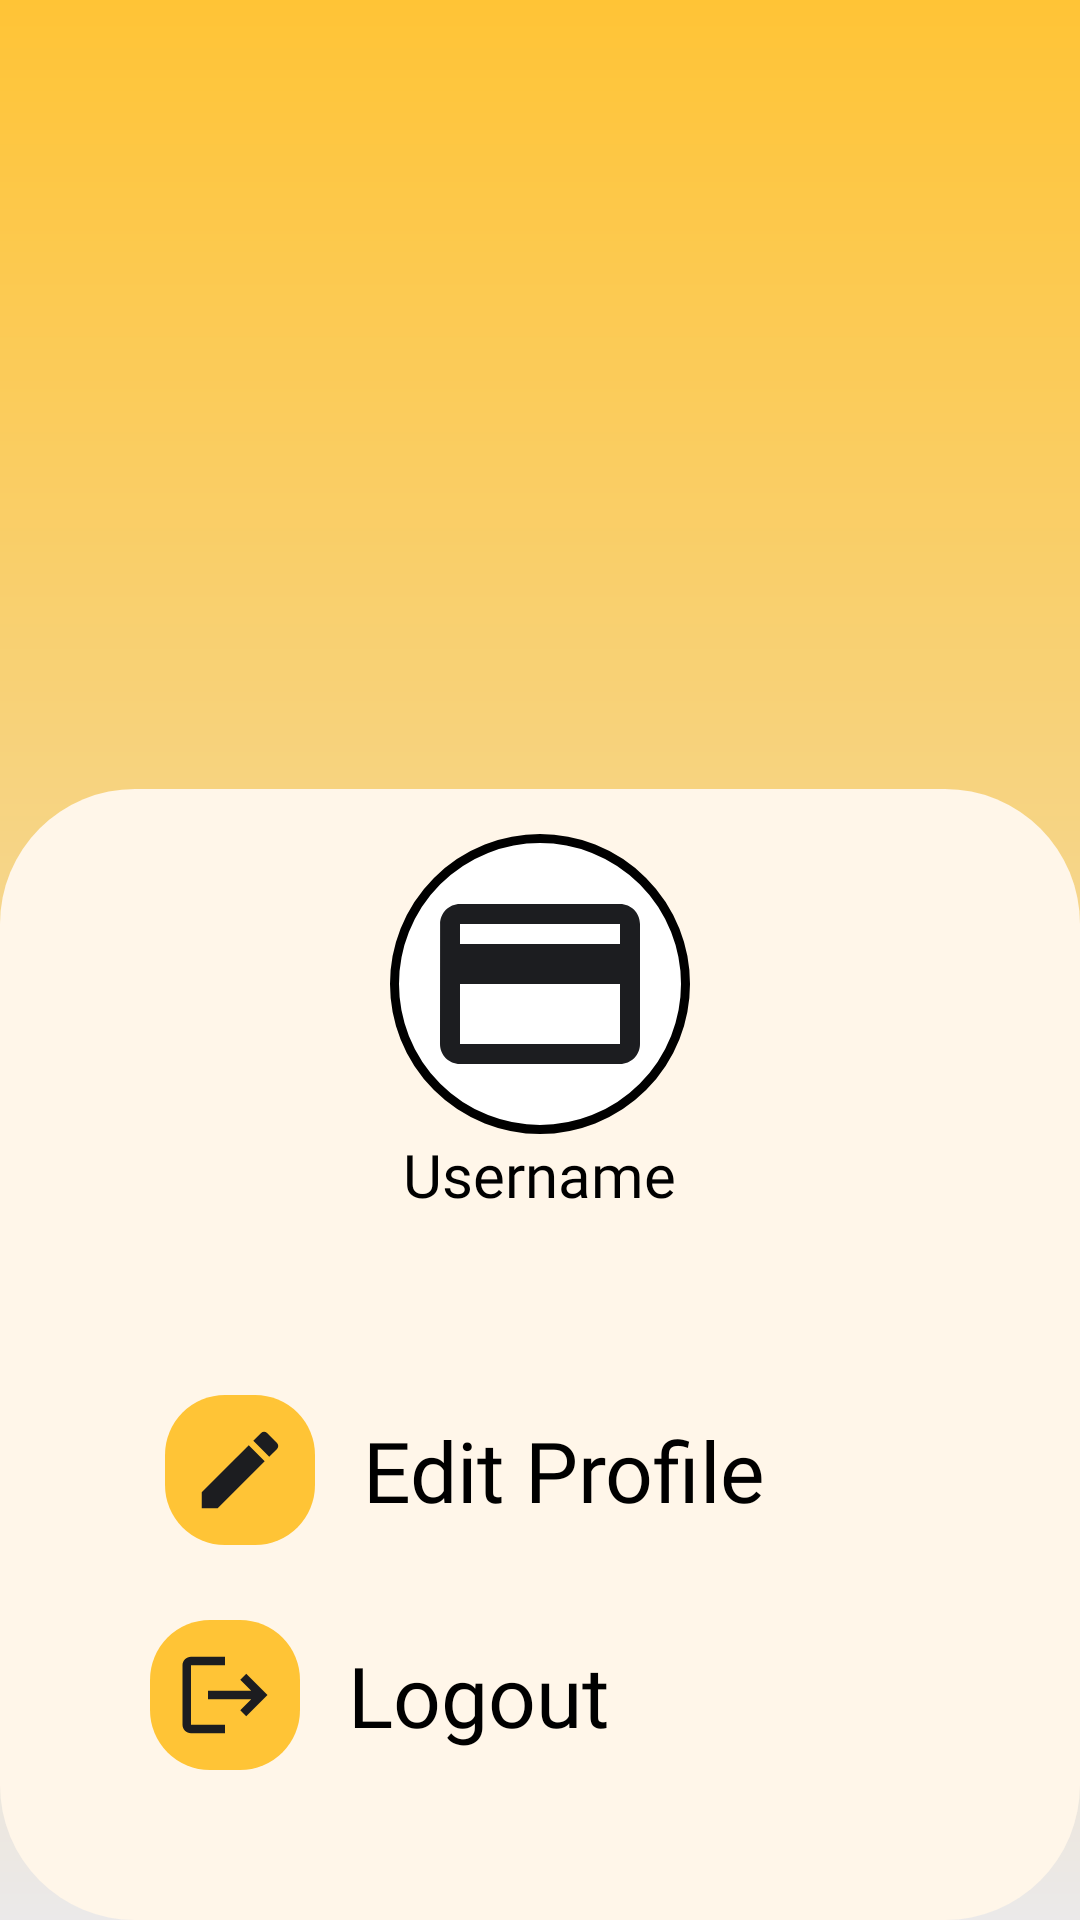

Icon click points for this 1080px×1920px phone screenshot, format (x=x, y=y):
digital pay: (x=540, y=984)
